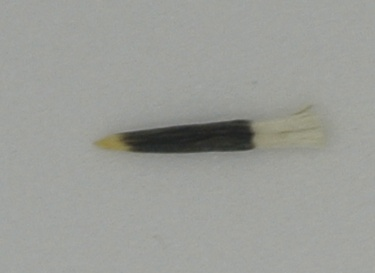เมล็ดดีติดกัน: (91, 102, 329, 156)
